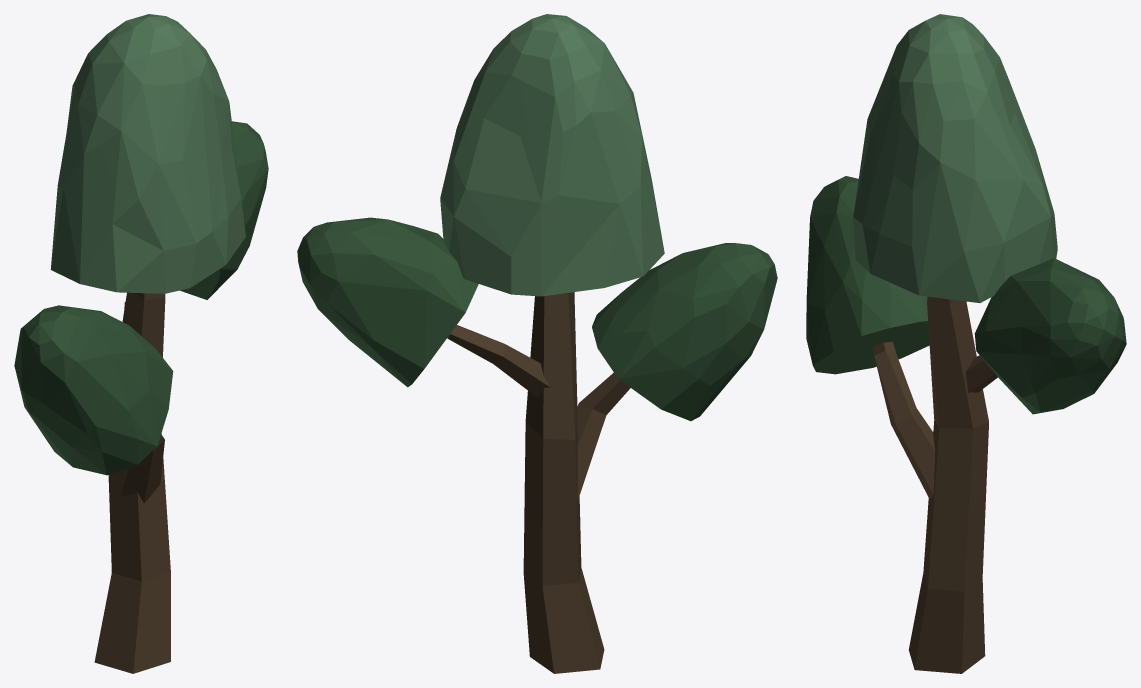
File: Tree11.glb
The picture shows the model from 3 angles, left to right: view 1: azimuth 30°, elevation 25°; view 2: azimuth 150°, elevation 25°; view 3: azimuth 270°, elevation 25°; orthographic projection. The views are drawn at different scales.
Parts seen in each view (by area): view 1: Tree_13; view 2: Tree_13; view 3: Tree_13.
Part boxes in pixels (<box>): Tree_13: <box>14,14,268,673</box>; Tree_13: <box>297,14,777,673</box>; Tree_13: <box>806,14,1126,673</box>.
Bounding box in the file's own units: 2.22 × 3.84 × 1.72.
1 material, 1 textured.
